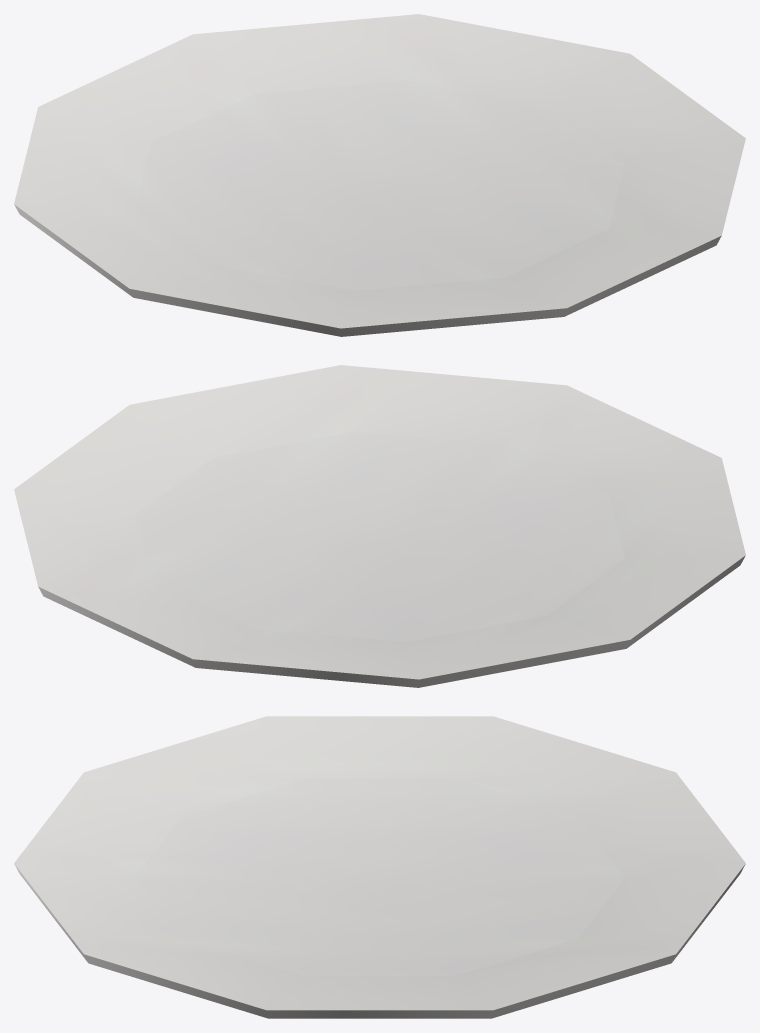
File: Plate.fbx
3 views of the same model, one above another, from view 1: azimuth 30°, elevation 25°; view 2: azimuth 150°, elevation 25°; view 3: azimuth 270°, elevation 25° (orthographic). The views are drawn at different scales.
Visible parts, largest first — view 1: Plate; view 2: Plate; view 3: Plate.
Boxes of the visible parts, <box> form: Plate: <box>14,14,745,336</box>; Plate: <box>14,365,745,687</box>; Plate: <box>14,716,745,1018</box>.
Size of the model in its own units: 30.2 by 2.36 by 31.75.
